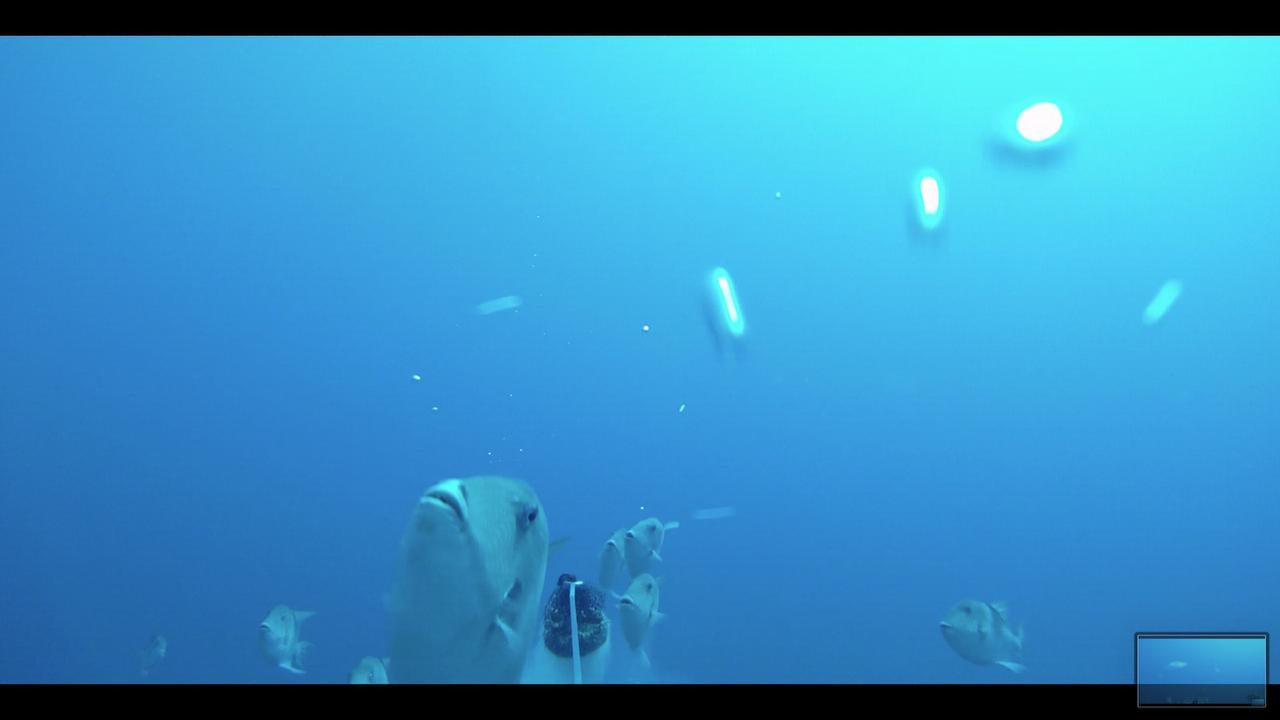balistes: (375, 462, 565, 681), (933, 588, 1036, 678), (242, 595, 323, 681), (609, 566, 670, 668), (621, 511, 682, 569), (589, 518, 638, 579)
